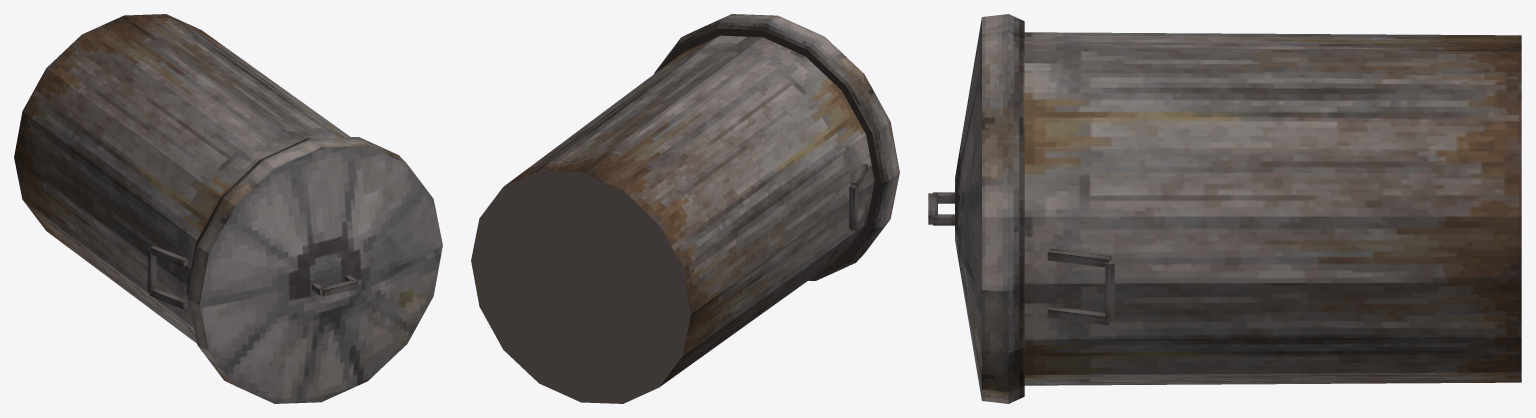
Rendered from metal_trashcan.obj.
The picture shows the model from 3 angles, left to right: view 1: azimuth 30°, elevation 25°; view 2: azimuth 150°, elevation 25°; view 3: azimuth 270°, elevation 25°; orthographic projection. The views are drawn at different scales.
Visible parts, largest first — view 1: metal_trashcan; view 2: metal_trashcan; view 3: metal_trashcan.
Part boxes in pixels (x1,y1,x2,y2): metal_trashcan: (14,14,442,403); metal_trashcan: (471,14,899,403); metal_trashcan: (928,14,1521,403).
Size of the model in its own units: 0.649 by 0.64 by 0.973.
1 material, 1 textured.
